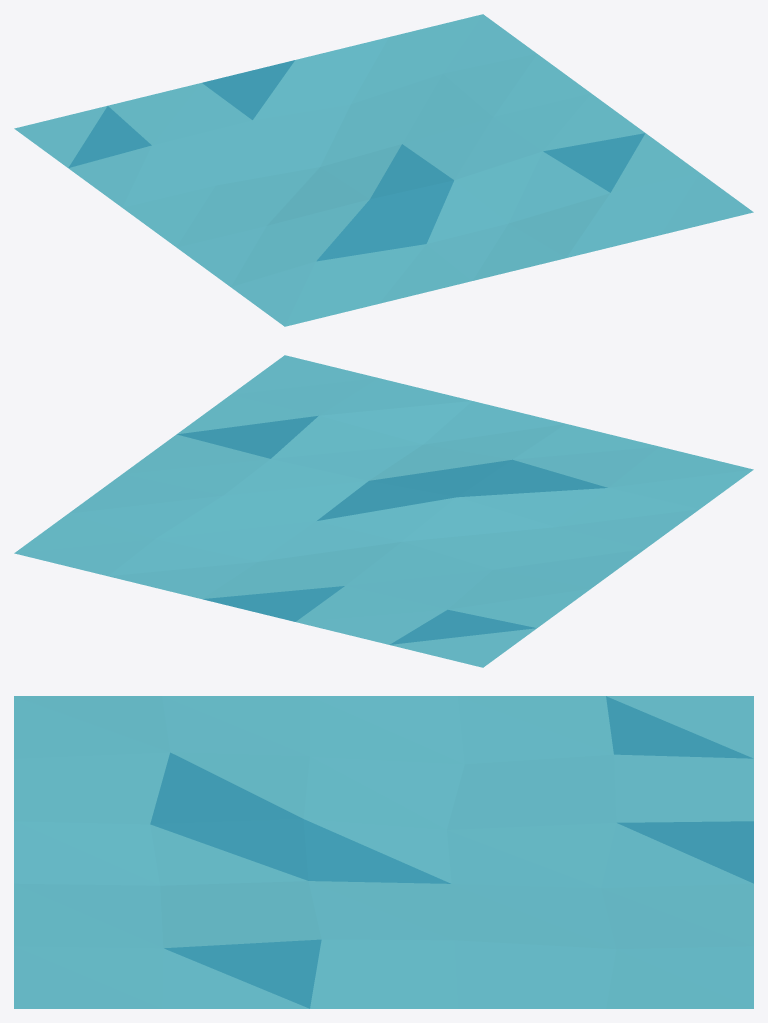
File: water_tile_2x2.glb
3 renders of one model, top to bottom at view 1: azimuth 30°, elevation 25°; view 2: azimuth 150°, elevation 25°; view 3: azimuth 270°, elevation 25°, orthographic. The views are drawn at different scales.
Parts seen in each view (by area): view 1: water_tile_2x2; view 2: water_tile_2x2; view 3: water_tile_2x2.
Part boxes in pixels (bbox=[...]): water_tile_2x2: bbox=[14, 14, 753, 326]; water_tile_2x2: bbox=[14, 355, 753, 667]; water_tile_2x2: bbox=[14, 696, 753, 1008].
Bounding box in the file's own units: 2 × 0.0277 × 2.
